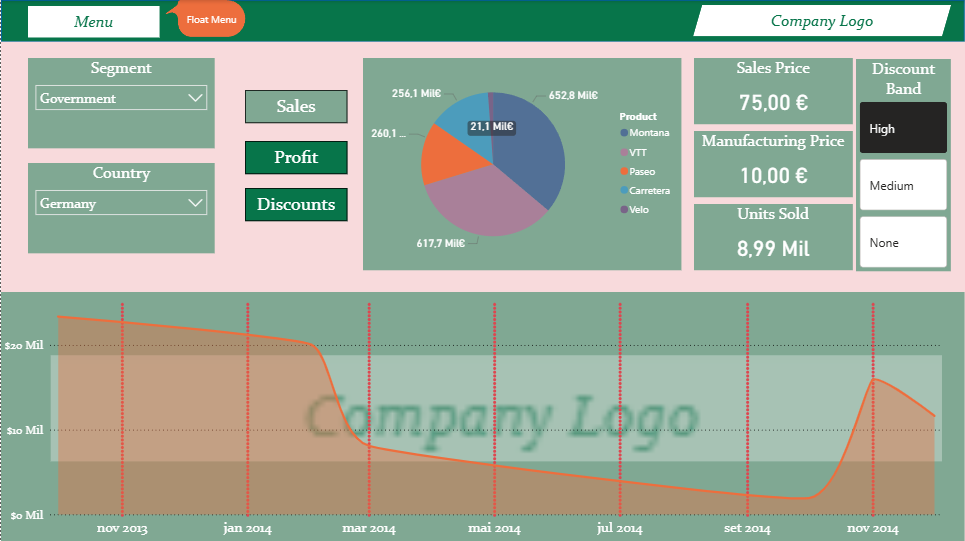

This screenshot's page, from the dashboard's own definition file:
{"tool":"powerbi","page":{"name":"Página 1","canvas":[1280,720],"ordinal":0},"visuals":[{"type":"shape","box":[0,0,1280,55.4],"z":0},{"type":"slicer","title":"Segment","fields":{"Values":["financials.Segment"]},"box":[35.9,77.7,248,120.4],"z":0,"group":"g2"},{"type":"pieChart","title":"Total Sales","fields":{"Category":["financials.Product"],"Y":["Sum(financials.Sales)"]},"box":[481,77.7,422.7,282.3],"z":0},{"type":"shape","box":[919.7,6.9,342.9,41.6],"z":1000},{"type":"lineChart","title":"Country","fields":{"Y":["Sum(financials.Profit)"],"Category":["financials.Date"],"Series":["financials.Country"]},"box":[0,388,1280,332.6],"z":2000},{"type":"card","title":"Units Sold","fields":{"Values":["Sum(financials.Units Sold)"]},"box":[920.2,271.7,210.6,88.3],"z":3000,"group":"g3"},{"type":"group","id":"g1","title":"Grupo 1","box":[324.1,119.5,135.9,174.8],"z":4000},{"type":"textbox","box":[324.1,119.5,135.9,44.5],"z":4000,"group":"g1"},{"type":"group","id":"g2","title":"Grupo 2","box":[35.9,77.7,248,259.9],"z":5000},{"type":"textbox","box":[324.1,187,135.9,44.5],"z":5000,"group":"g1"},{"type":"card","title":"Manufacturing Price","fields":{"Values":["Avg(financials.Manufacturing Price)"]},"box":[920.2,174.7,210.6,88.3],"z":6000,"group":"g3"},{"type":"textbox","box":[324.1,249.8,135.9,44.5],"z":6000,"group":"g1"},{"type":"advancedSlicerVisual","title":"Discount Band","fields":{"Values":["financials.Discount Band"]},"box":[1136.2,77.9,126.4,282.3],"z":7000},{"type":"slicer","title":"Country","fields":{"Values":["financials.Country"]},"box":[35.9,217.2,248,120.4],"z":7000,"group":"g2"},{"type":"card","title":"Sales Price","fields":{"Values":["Avg(financials.Sale Price)"]},"box":[920.2,77.7,210.6,88.3],"z":9000,"group":"g3"},{"type":"group","id":"g3","title":"Grupo 3","box":[920.2,77.7,210.6,282.3],"z":9001},{"type":"shape","box":[35.9,7.5,174.8,41.8],"z":9002},{"type":"shape","box":[210.6,0,113.5,49.3],"z":9003}]}

Visuals, with their boxes in screenshot pixels (x1, y1, x2, y2), scaled from the page's 1280x720 canvas onto the 965x541 screenshot:
shape: (0,0,964,42)
"Segment" slicer: (27,58,214,149)
"Total Sales" pieChart: (363,58,681,270)
shape: (693,5,952,36)
"Country" lineChart: (0,292,964,540)
"Units Sold" card: (694,204,853,270)
"Grupo 1" group: (244,90,347,221)
textbox: (244,90,347,123)
"Grupo 2" group: (27,58,214,254)
textbox: (244,141,347,174)
"Manufacturing Price" card: (694,131,853,198)
textbox: (244,188,347,221)
"Discount Band" advancedSlicerVisual: (857,59,952,271)
"Country" slicer: (27,163,214,254)
"Sales Price" card: (694,58,853,125)
"Grupo 3" group: (694,58,853,270)
shape: (27,6,159,37)
shape: (159,0,244,37)
